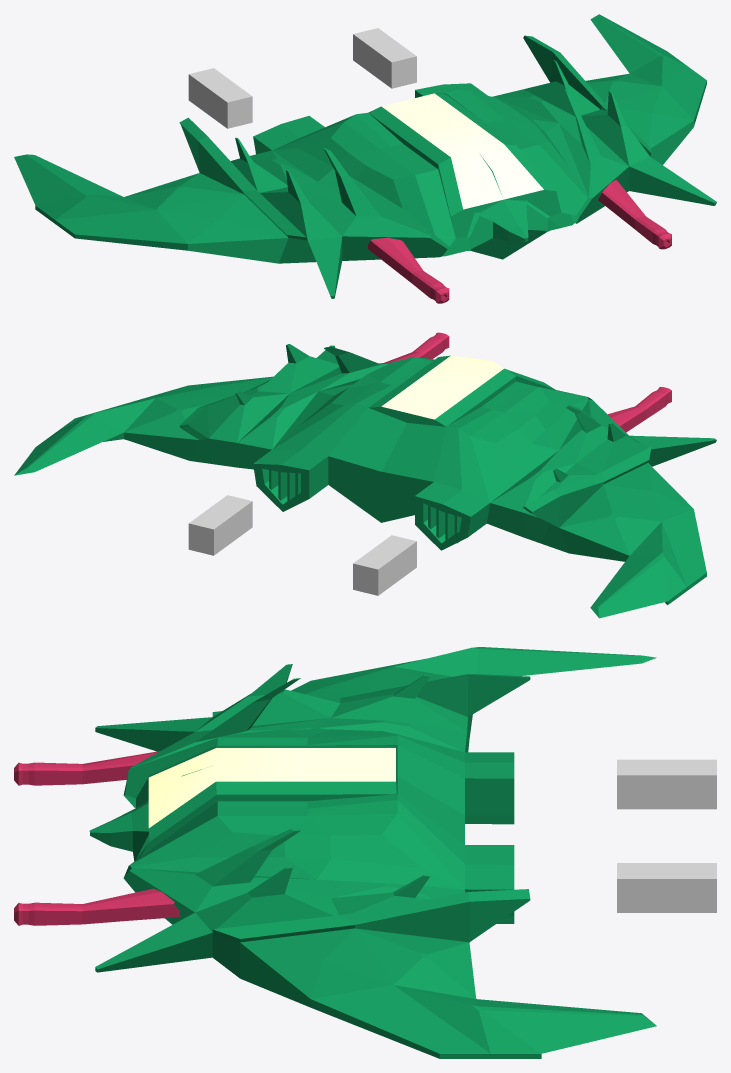
Rendered from dist.glb.
The picture shows the model from 3 angles, top to bottom: view 1: azimuth 30°, elevation 25°; view 2: azimuth 150°, elevation 25°; view 3: azimuth 270°, elevation 25°; orthographic projection. The views are drawn at different scales.
Parts seen in each view (by area): view 1: MainObject, Window, Cube, Enemy_Ship.001; view 2: MainObject, Cube, Window, Enemy_Ship.001; view 3: MainObject, Cube, Window, Enemy_Ship.001.
Part boxes in pixels (bbox=[...]): MainObject: bbox=[14, 14, 716, 298]; Window: bbox=[381, 93, 543, 209]; Cube: bbox=[188, 28, 416, 128]; Enemy_Ship.001: bbox=[368, 180, 671, 303]; MainObject: bbox=[14, 344, 716, 618]; Cube: bbox=[188, 495, 416, 595]; Window: bbox=[381, 355, 503, 419]; Enemy_Ship.001: bbox=[384, 332, 671, 432]; MainObject: bbox=[89, 647, 656, 1058]; Cube: bbox=[617, 759, 716, 912]; Window: bbox=[148, 748, 395, 827]; Enemy_Ship.001: bbox=[14, 751, 179, 925].
Bounding box in the file's own units: 5.98 × 0.8918 × 4.47.
